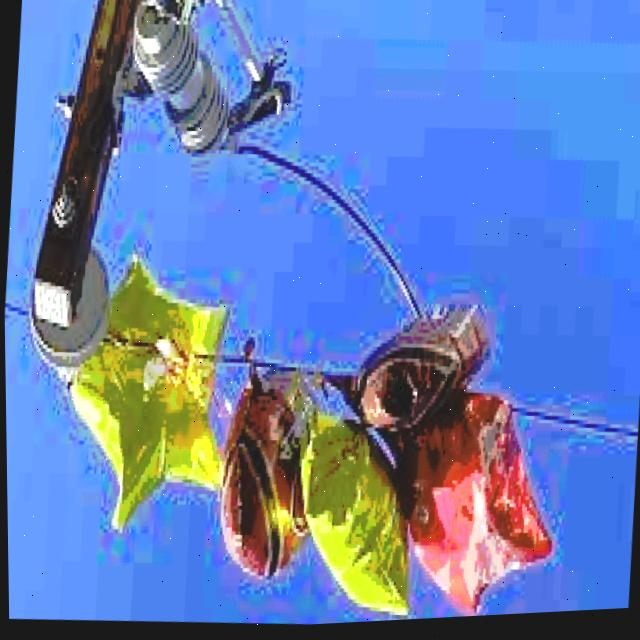obstruction: (62, 263, 549, 623)
poles: (29, 0, 287, 389)
wires: (238, 152, 429, 326), (219, 361, 315, 407), (510, 417, 634, 446), (359, 340, 409, 376), (325, 382, 356, 423), (375, 442, 394, 468), (4, 303, 26, 318)
